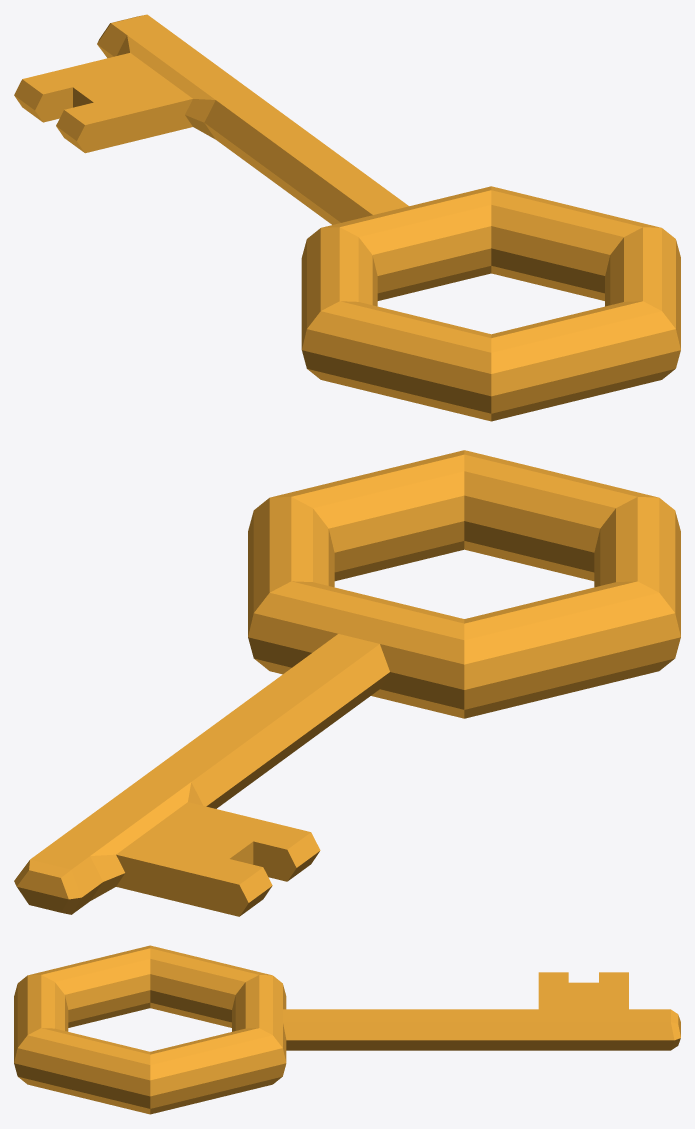
File: key.glb
3 renders of one model, top to bottom at view 1: azimuth 30°, elevation 25°; view 2: azimuth 150°, elevation 25°; view 3: azimuth 270°, elevation 25°, orthographic. The views are drawn at different scales.
Parts seen in each view (by area): view 1: Torus; view 2: Torus; view 3: Torus.
Boxes of the visible parts, <box> form: Torus: <box>14,14,680,421</box>; Torus: <box>14,450,680,916</box>; Torus: <box>14,945,680,1114</box>.
Size of the model in its own units: 0.2498 by 0.05 by 0.5295.
Materials: 1 (1 with a texture image).
